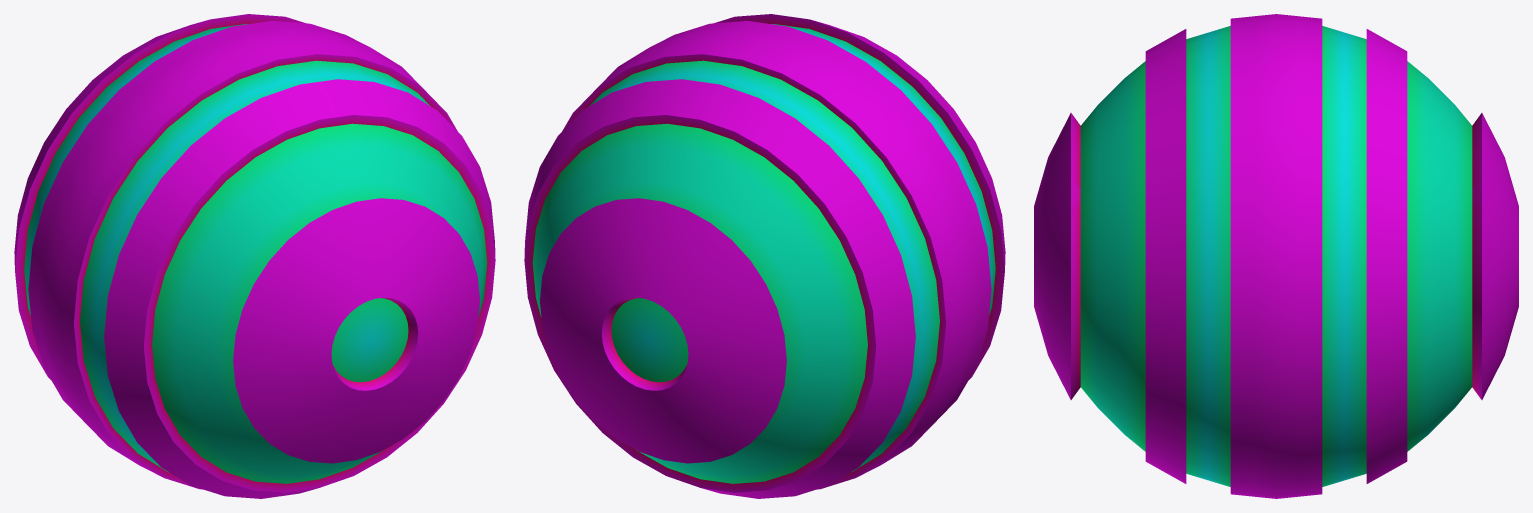
The model's file is Ball 1.fbx.
The picture shows the model from 3 angles, left to right: view 1: azimuth 30°, elevation 25°; view 2: azimuth 150°, elevation 25°; view 3: azimuth 270°, elevation 25°; orthographic projection.
Parts seen in each view (by area): view 1: Sphere; view 2: Sphere; view 3: Sphere.
Part boxes in pixels (x1,y1,x2,y2): Sphere: [14, 14, 495, 498]; Sphere: [524, 14, 1005, 498]; Sphere: [1034, 14, 1518, 498].
Size of the model in its own units: 103 by 103 by 103.
